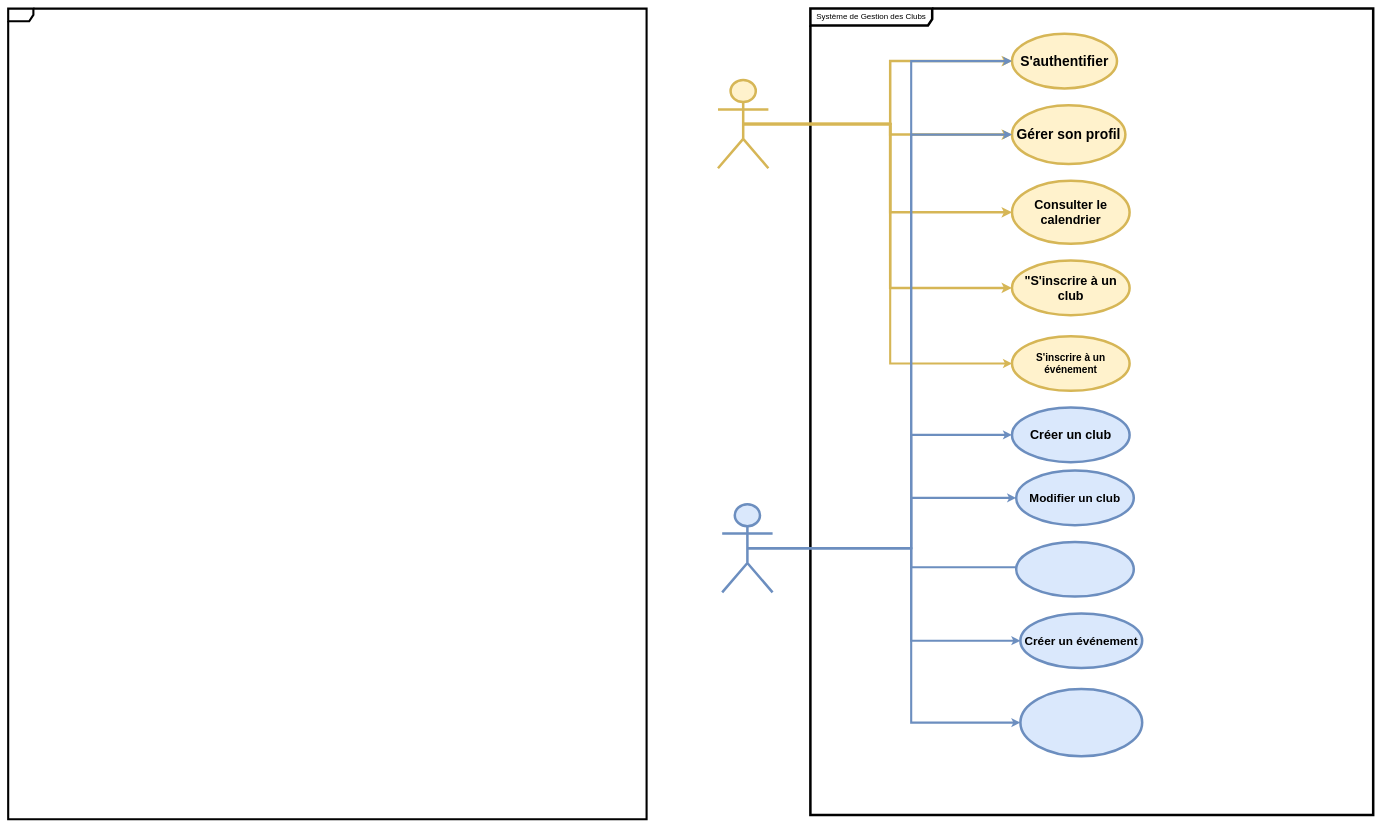
This 1382x827 diagram has some shape labels left out. Here are the shapes that lost their labels. From the top down, the centre of each, then its label:
(x=743, y=124): Etudiant
(x=327, y=413): frame
(x=747, y=548): Admin
(x=1075, y=569): Archiver un club
(x=1081, y=722): Gérer les inscriptions
